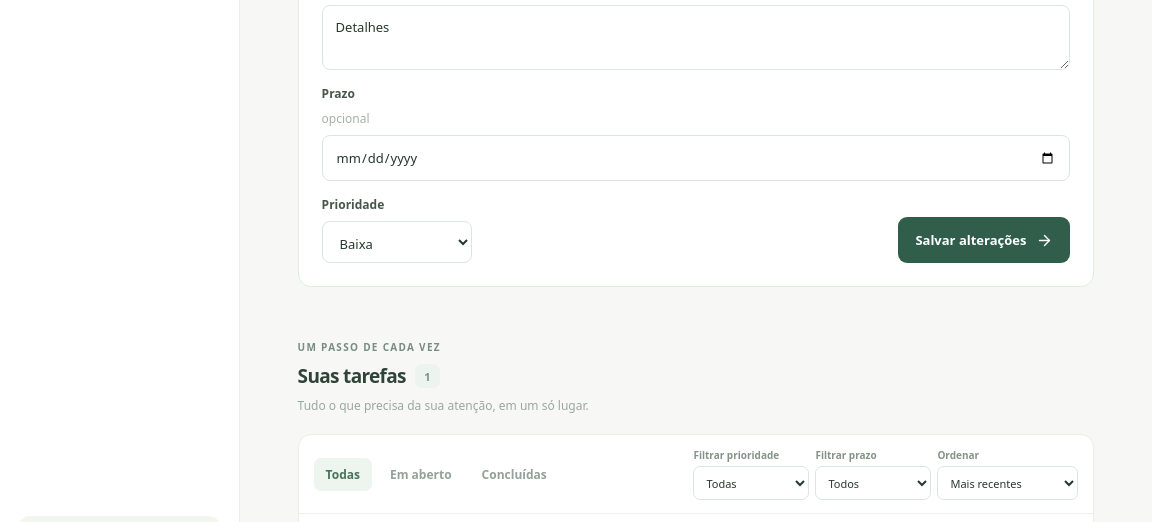
Test: TaskPilot › edita tarefa concluída e confirma a exclusão permanente
Earlier steps of the test are not shown.
(page scrolled)
Select "Alta" in the dropdown labelled "Prioridade" at (397, 242), box [322,222,472,264]
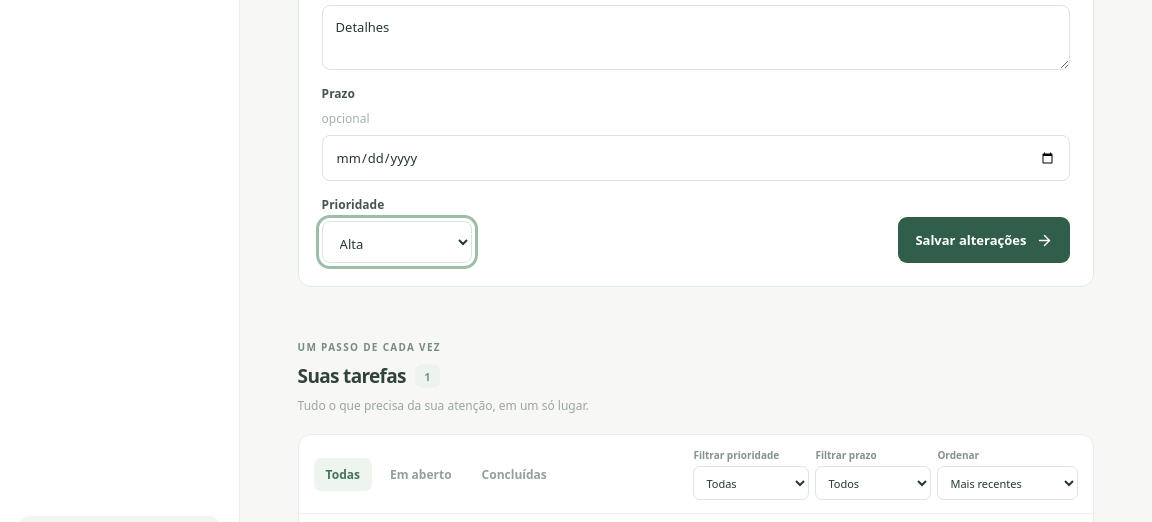
Click the button "Salvar alterações".
click(984, 240)  # box [898,218,1070,264]
(page scrolled)
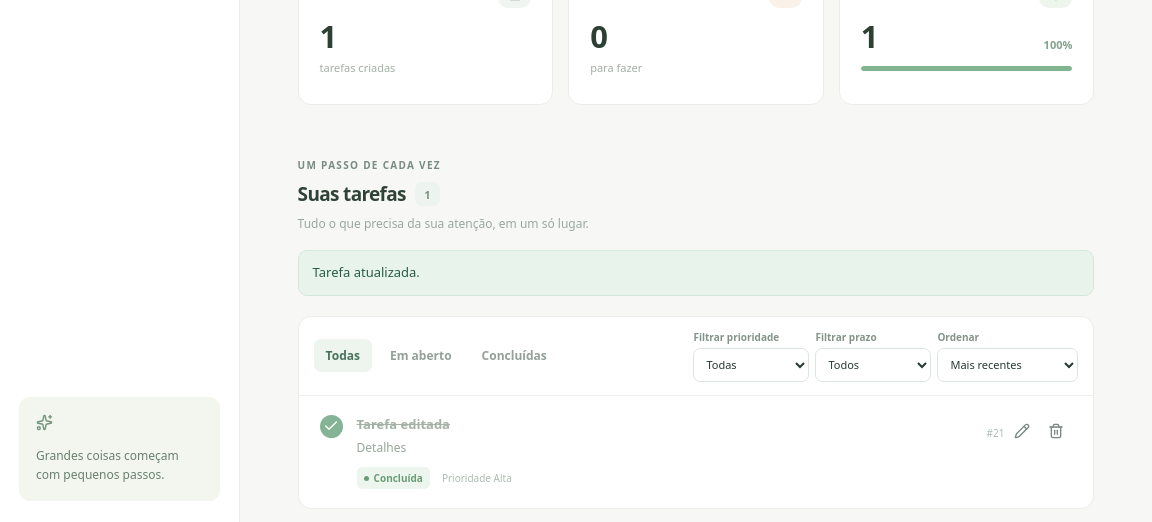
Result: the text "Concluída" is shown at [357,468,430,490]
Result: the heading "Tarefa editada" is shown at [357,415,450,433]
Result: the text "Prioridade Alta" is shown at [442,472,512,486]
Click the button named "Excluir Tarefa editada".
click(1056, 431)  # box [1040,415,1072,447]
(page scrolled)
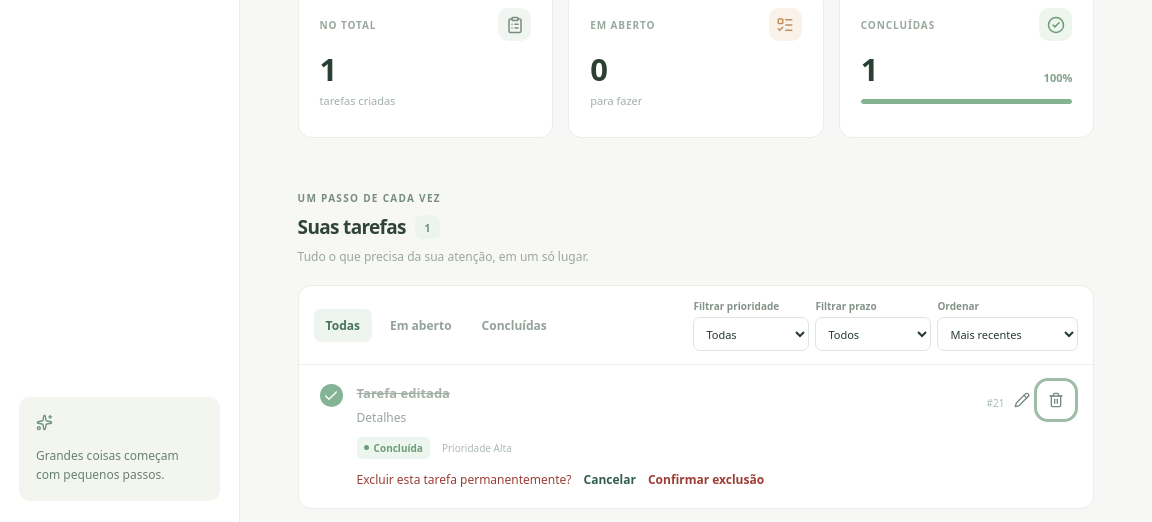
Click the button "Cancelar".
click(610, 480)  # box [584,472,636,488]
(page scrolled)
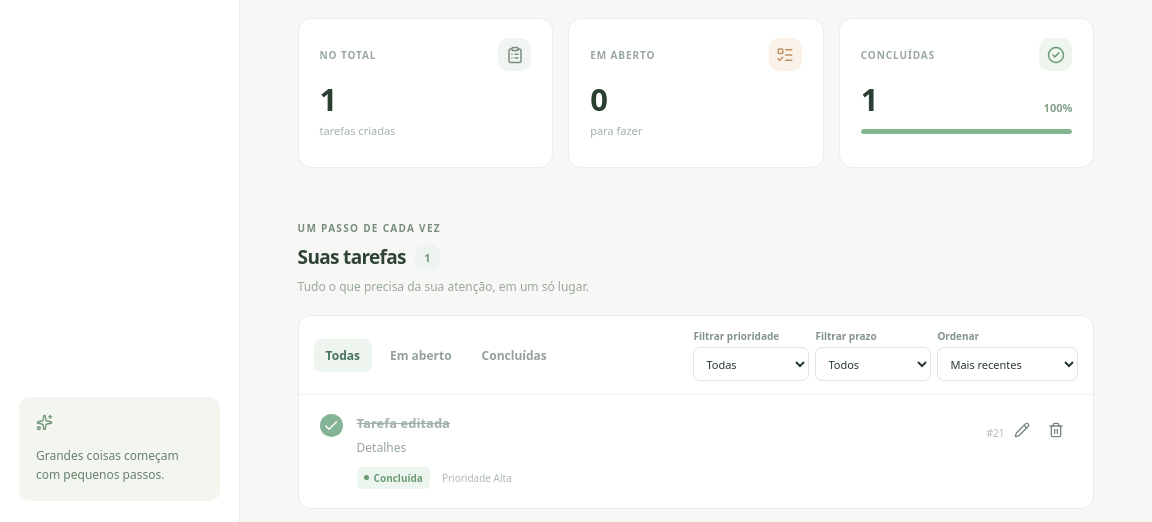
Click the button named "Excluir Tarefa editada".
click(1056, 430)  # box [1040,414,1072,446]
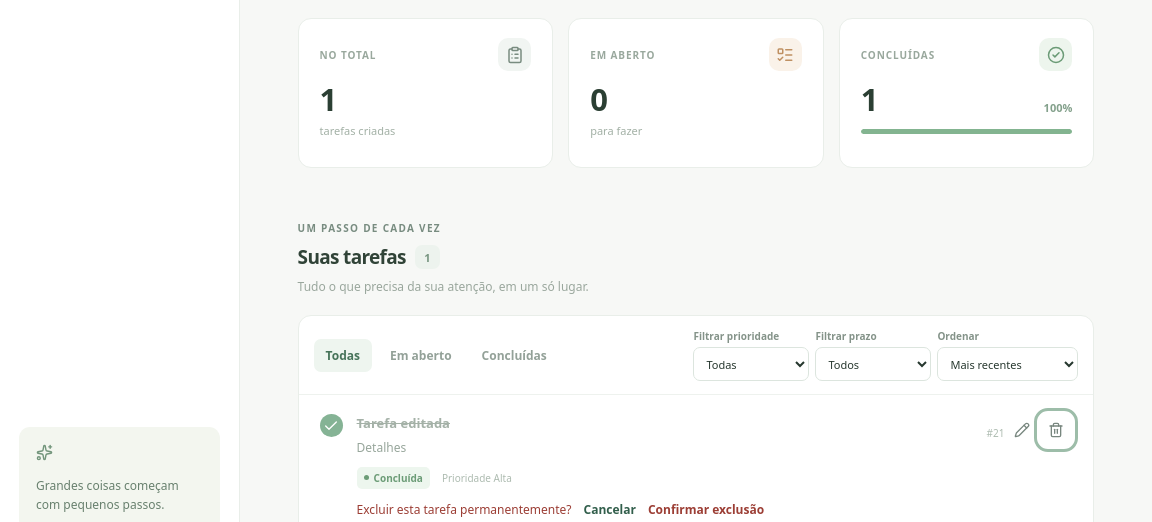
Click the button "Confirmar exclusão".
click(706, 510)  # box [648,502,764,518]
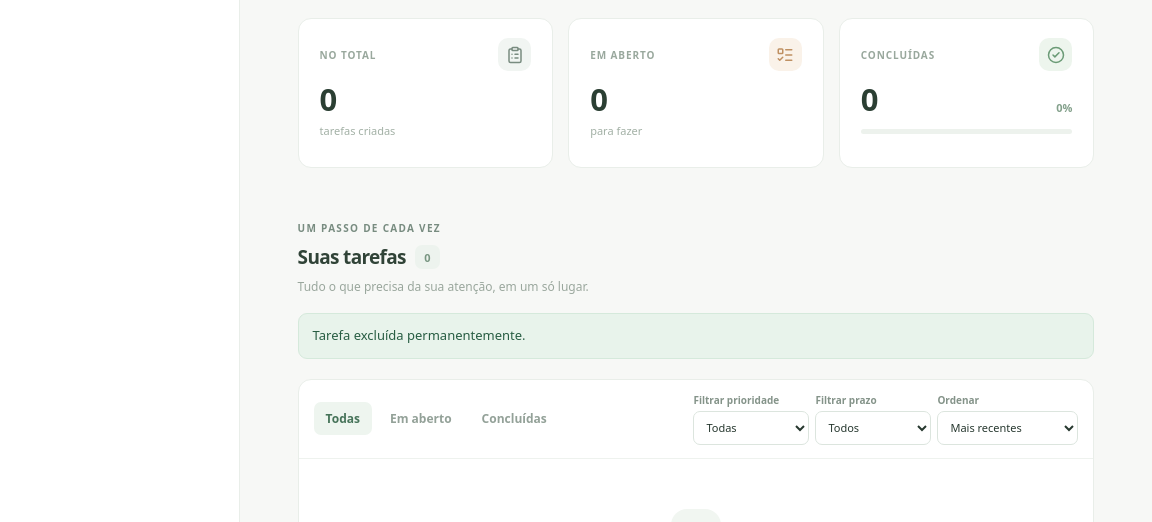
Result: the text "Tarefa excluída permanentemente." is shown at [298,314,1094,359]
Result: the heading "Tarefa editada" is gone
